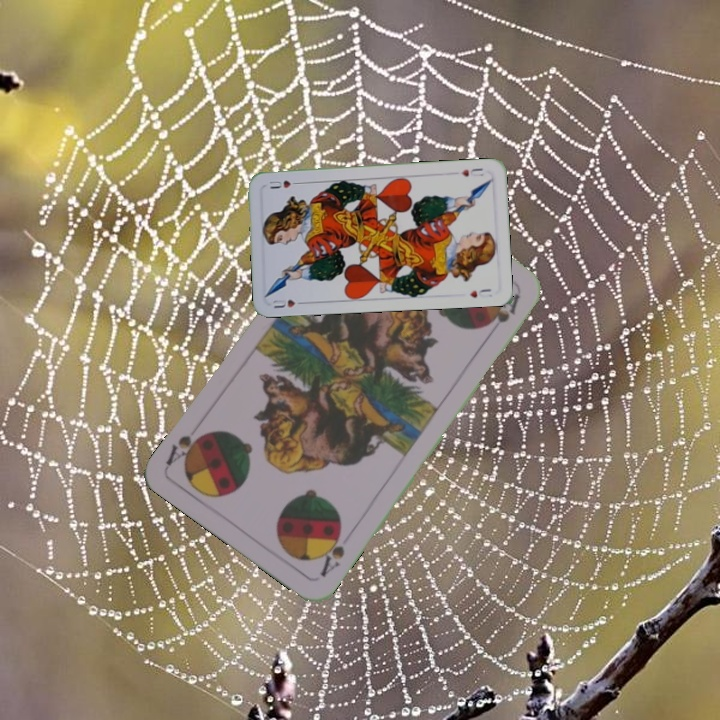HU: (268, 295, 308, 311), (457, 164, 486, 179)
SA: (315, 523, 348, 580)
